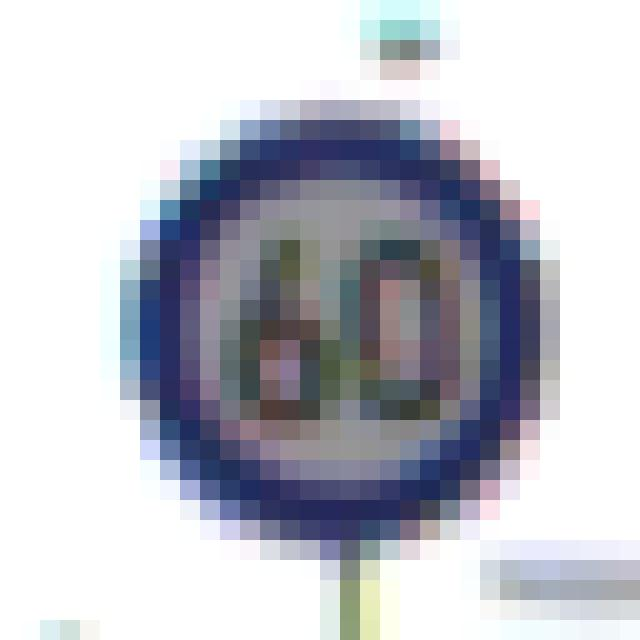SPEED-LIMIT-60: (100, 88, 597, 570)
